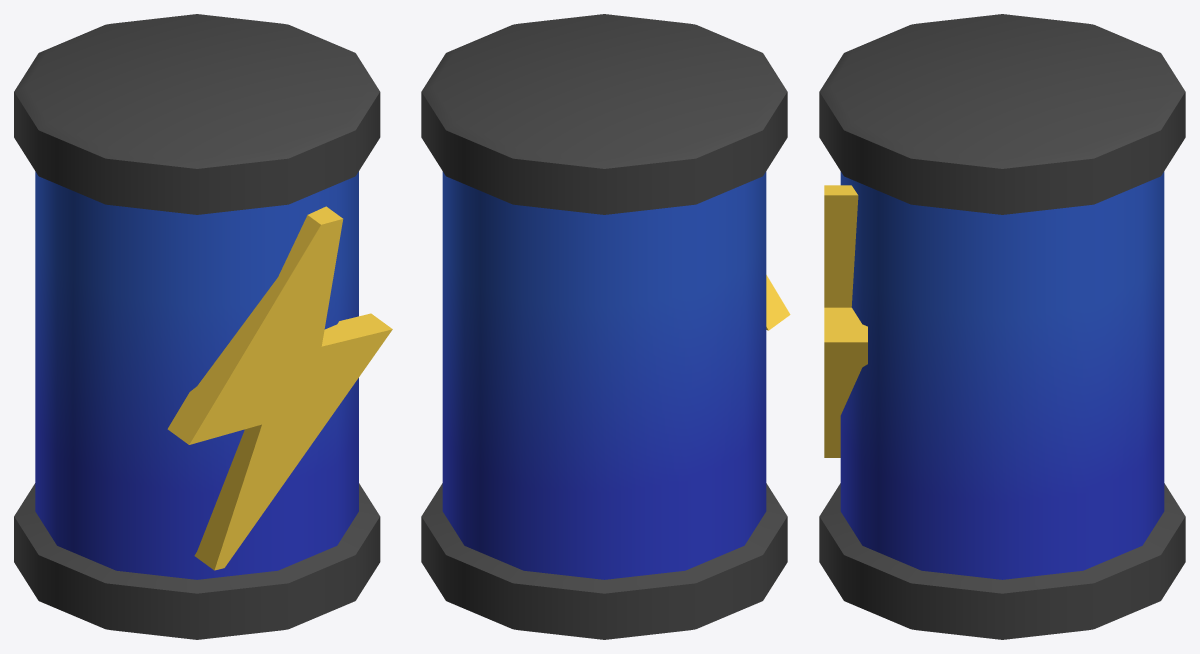
File: Energy_Blue.fbx
3 renders of one model, left to right at view 1: azimuth 30°, elevation 25°; view 2: azimuth 150°, elevation 25°; view 3: azimuth 270°, elevation 25°, orthographic.
Visible parts, largest first — view 1: Energy_Blue; view 2: Energy_Blue; view 3: Energy_Blue.
Part boxes in pixels (x1=…): Energy_Blue: x1=14, y1=14, x2=392, y2=639; Energy_Blue: x1=421, y1=14, x2=790, y2=639; Energy_Blue: x1=819, y1=14, x2=1185, y2=639.
Bounding box in the file's own units: 28.54 × 41.37 × 28.54.
